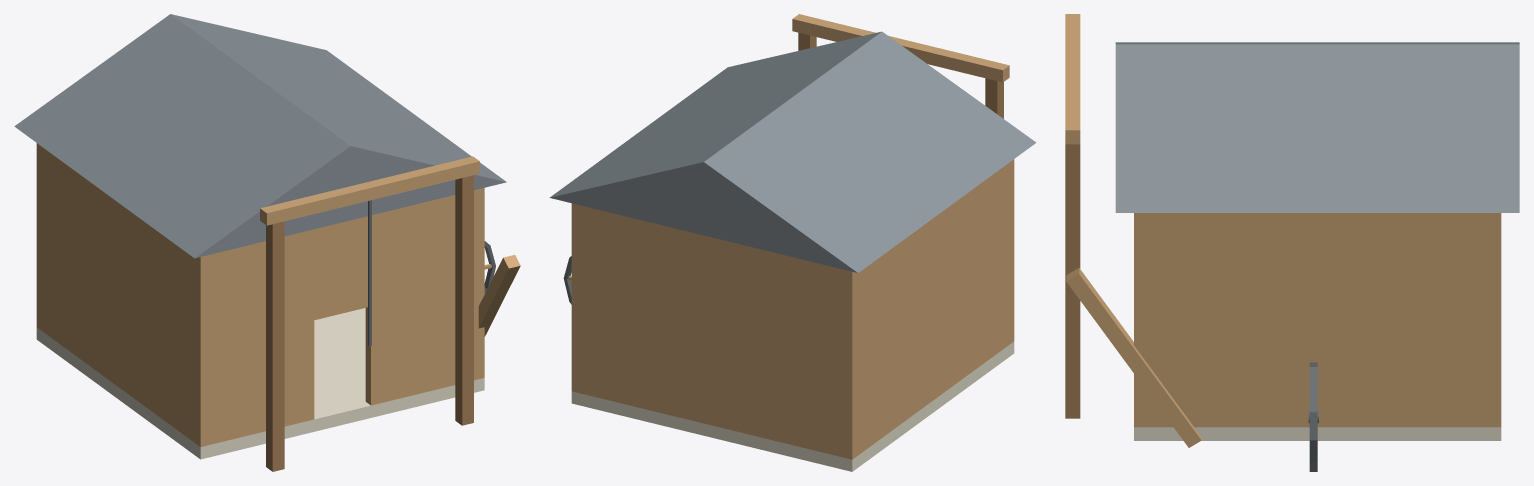
The model's file is siege-workshop.glb.
The picture shows the model from 3 angles, left to right: view 1: azimuth 30°, elevation 25°; view 2: azimuth 150°, elevation 25°; view 3: azimuth 270°, elevation 25°; orthographic projection. The views are drawn at different scales.
Parts seen in each view (by area): view 1: siege-workshop; view 2: siege-workshop; view 3: siege-workshop.
Part boxes in pixels (x1,y1,x2,y2): siege-workshop: [14, 14, 520, 471]; siege-workshop: [549, 14, 1036, 471]; siege-workshop: [1065, 14, 1519, 471].
Size of the model in its own units: 8.2 by 5.82 by 7.43.
